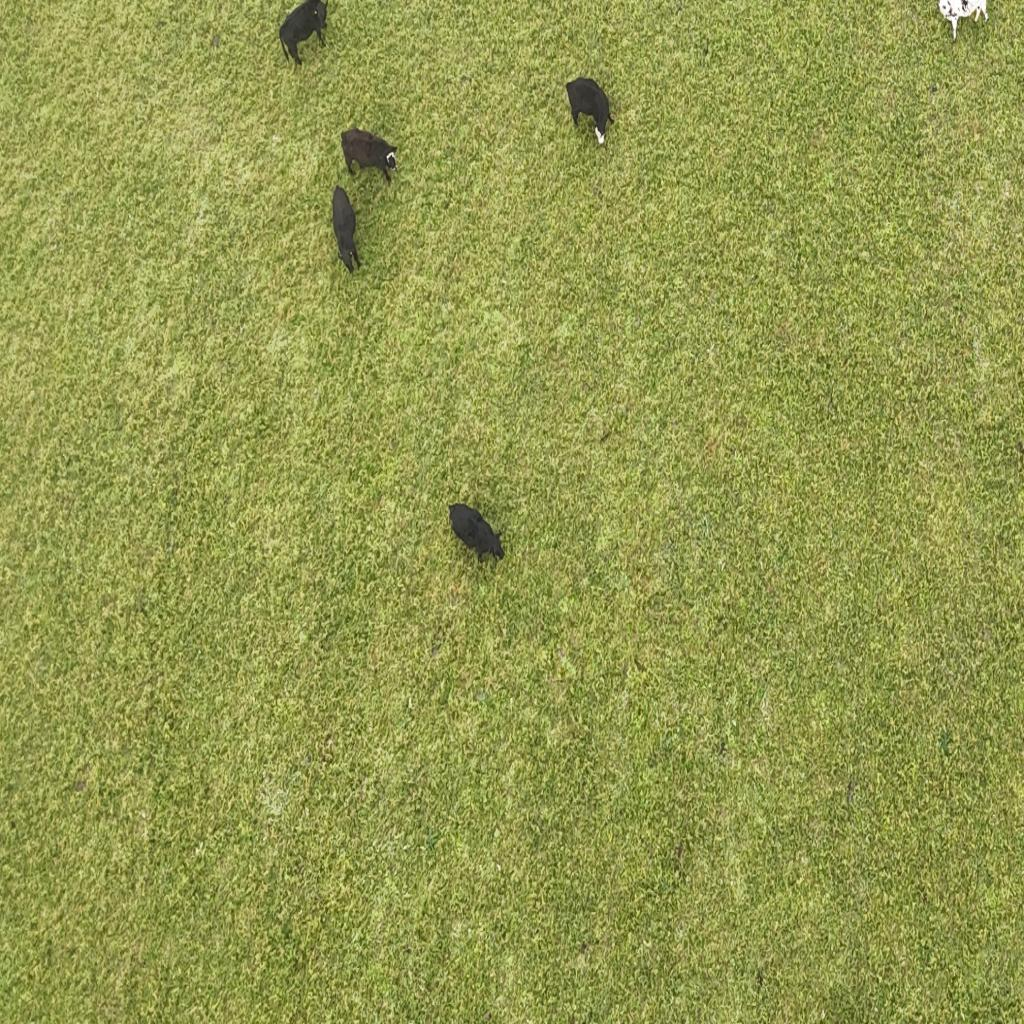cow: (446, 490, 509, 570), (564, 73, 620, 154), (276, 0, 330, 68), (341, 128, 399, 187), (328, 184, 361, 278), (936, 0, 992, 47)
